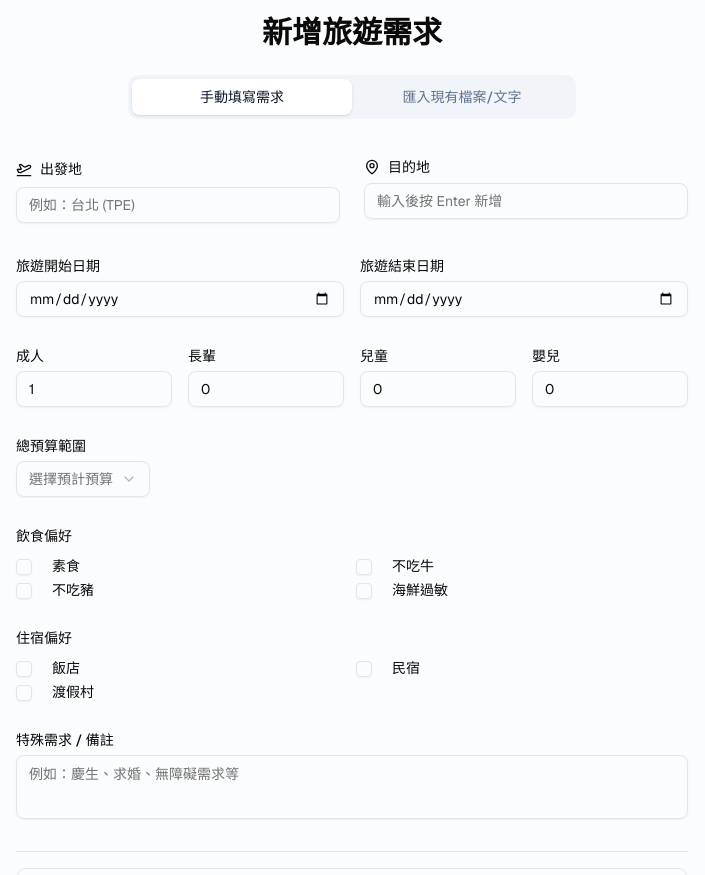
Scenario: RequirementFormPage with Tabs › displays 每人預算 when travelers >= 2
Expected: the label with test id "budget-label" shows "總預算", [16,437,86,455]
Increase Adult count to 2
Replace the text in the number field labelled "成人" with "2". click: (94, 389)
box: [16,371,172,407]
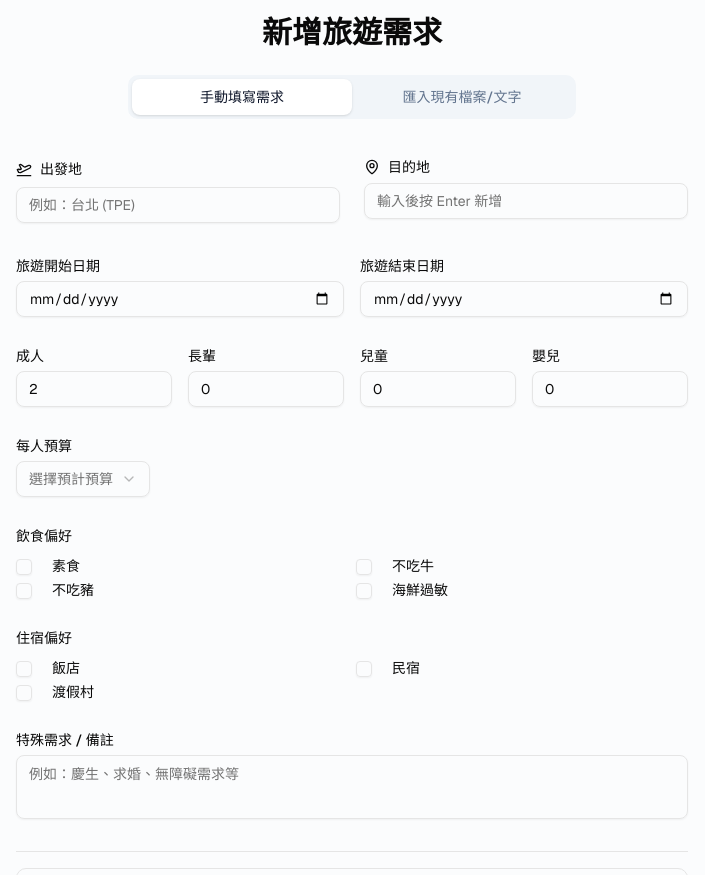
Now the label with test id "budget-label" reads "每人預算", box [16,437,72,455]
